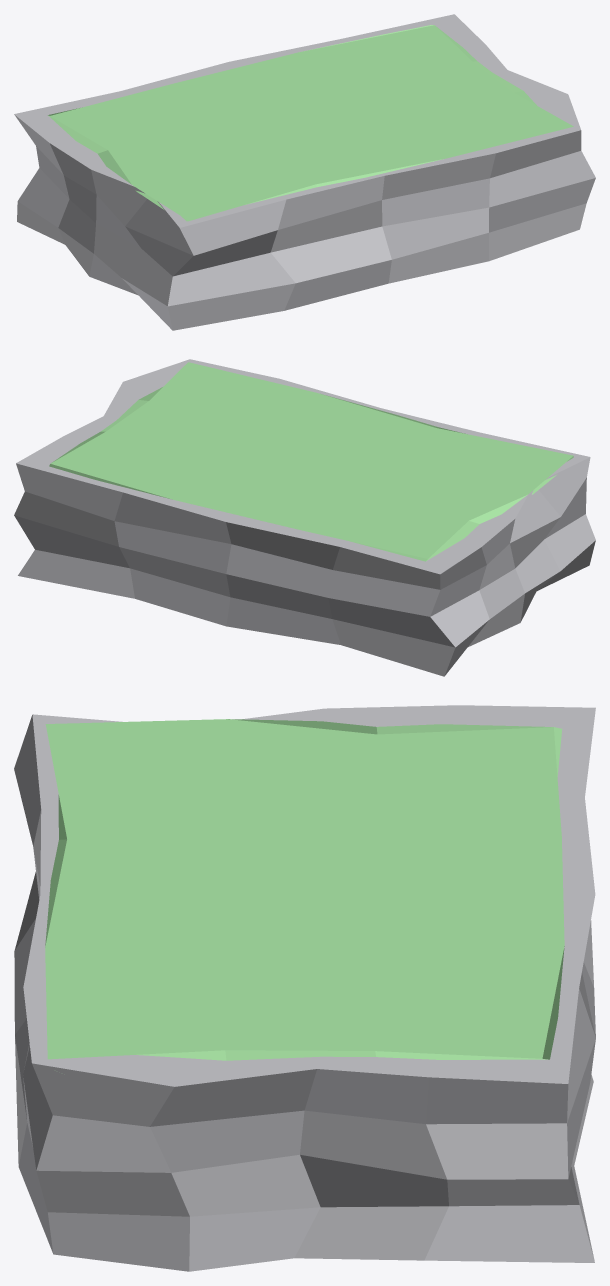
The model's file is ASTX_GEO_TERRACE.glb.
The picture shows the model from 3 angles, top to bottom: view 1: azimuth 30°, elevation 25°; view 2: azimuth 150°, elevation 25°; view 3: azimuth 270°, elevation 25°; orthographic projection. The views are drawn at different scales.
Parts seen in each view (by area): view 1: ASTX_GEO_terrace, ASTX_GEO_terrace_cap; view 2: ASTX_GEO_terrace, ASTX_GEO_terrace_cap; view 3: ASTX_GEO_terrace_cap, ASTX_GEO_terrace.
Boxes of the visible parts, bbox=[...] form: ASTX_GEO_terrace: bbox=[14, 14, 595, 330]; ASTX_GEO_terrace_cap: bbox=[48, 25, 573, 221]; ASTX_GEO_terrace: bbox=[14, 359, 595, 676]; ASTX_GEO_terrace_cap: bbox=[49, 362, 573, 561]; ASTX_GEO_terrace_cap: bbox=[45, 719, 564, 1060]; ASTX_GEO_terrace: bbox=[14, 705, 595, 1271].
Bounding box in the file's own units: 23.51 × 5.38 × 15.03.
